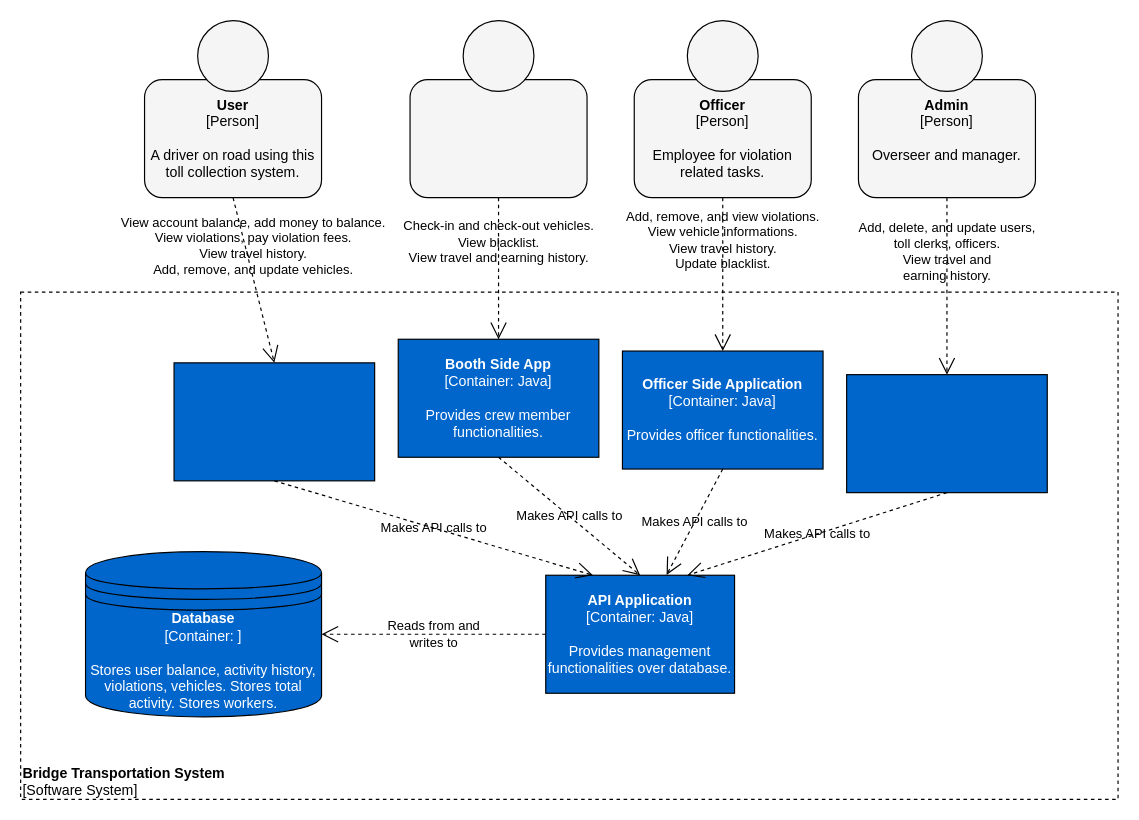
Image size: 1139x820. Some labels were removed from this diagram. Here are the shapes that lost their labels. From the top down, the centre of each, then its label:
At pixel 498 138: "Toll Clerk [Person] Employee for non-autonomous booths.".
At pixel 274 421: "User Side App [Container: Java] Provides user functionalities.".
At pixel 946 433: "Admin Side Application [Container: Java] Provides admin functionalities.".
